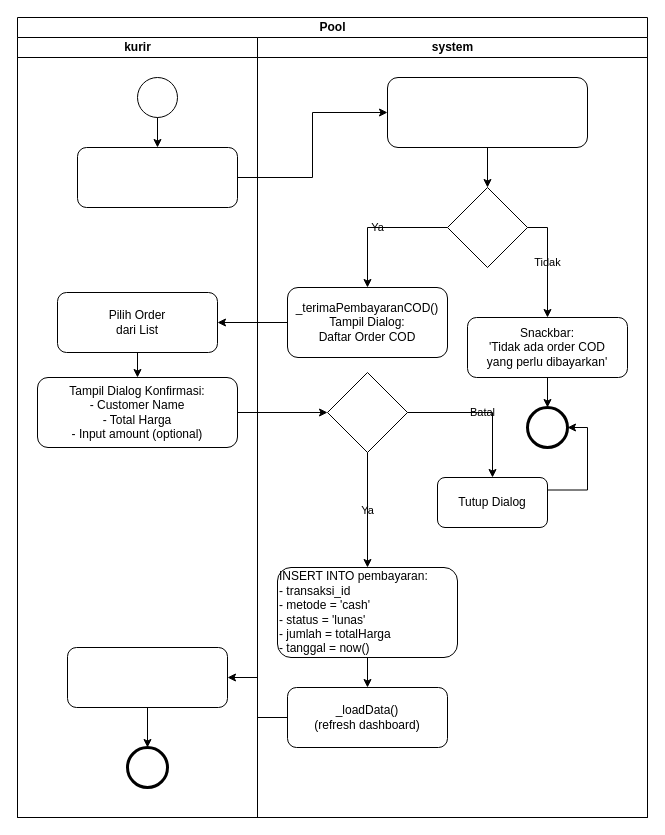
This 665x835 diagram has some shape labels left out. Each missing label, with the centre of its shape:
Ada Order COD?: point (487, 227)
Filter Order COD: - isCOD = true - status = 'dikirim' - belum ada pembayaran: point (487, 112)
Klik FAB 'Terima Pembayaran COD': point (157, 177)
Konfirmasi Terima?: point (367, 412)
Snackbar: 'Pembayaran COD berhasil diterima': point (147, 677)
